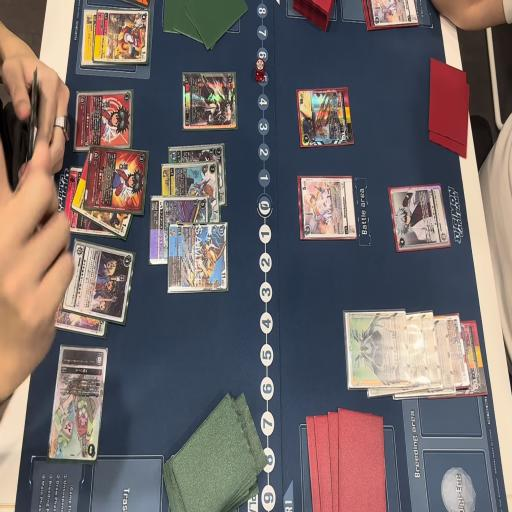card: (46, 349, 110, 467), (62, 240, 140, 325), (73, 145, 137, 239), (344, 304, 408, 392), (165, 222, 231, 298), (84, 144, 154, 214), (148, 195, 208, 268), (72, 88, 134, 156), (298, 174, 358, 244), (390, 187, 448, 256), (160, 163, 222, 227), (166, 141, 228, 204), (182, 69, 240, 135), (296, 86, 357, 146), (94, 10, 150, 66), (48, 295, 112, 340), (60, 167, 100, 236), (458, 318, 487, 396), (404, 309, 428, 397), (445, 312, 469, 394), (435, 314, 456, 399), (419, 311, 441, 390), (367, 0, 417, 31), (84, 5, 100, 69)
